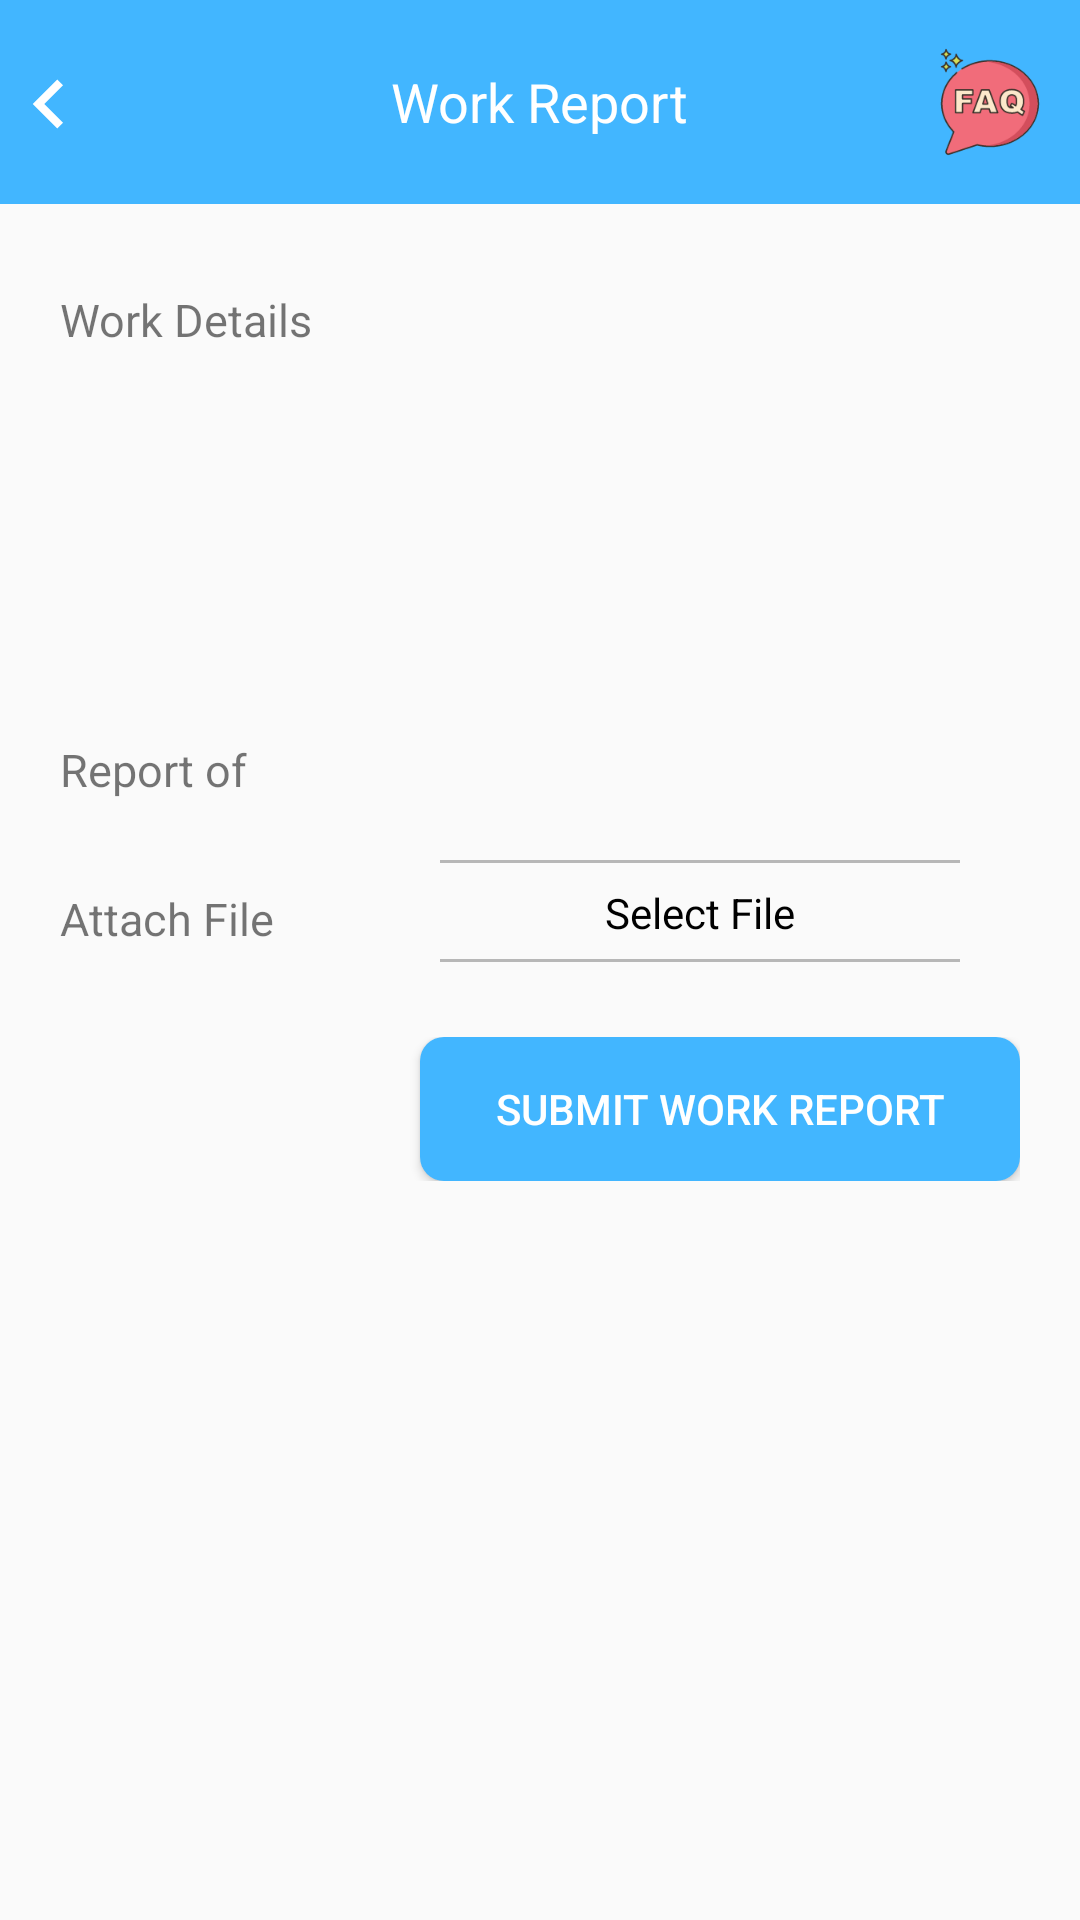

Named icons in this screenshot (1080x1920) and their centers, [x,y]:
keyboard arrow left: [48,104]
